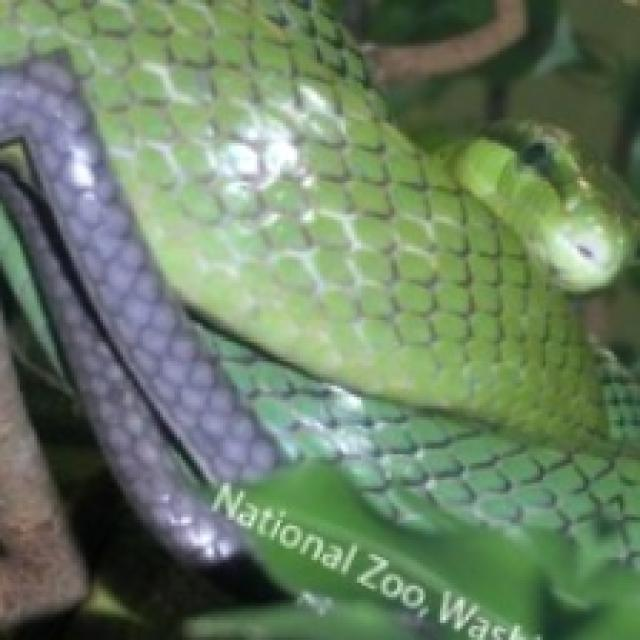red-tailed green ratsnake: (0, 1, 640, 568)
